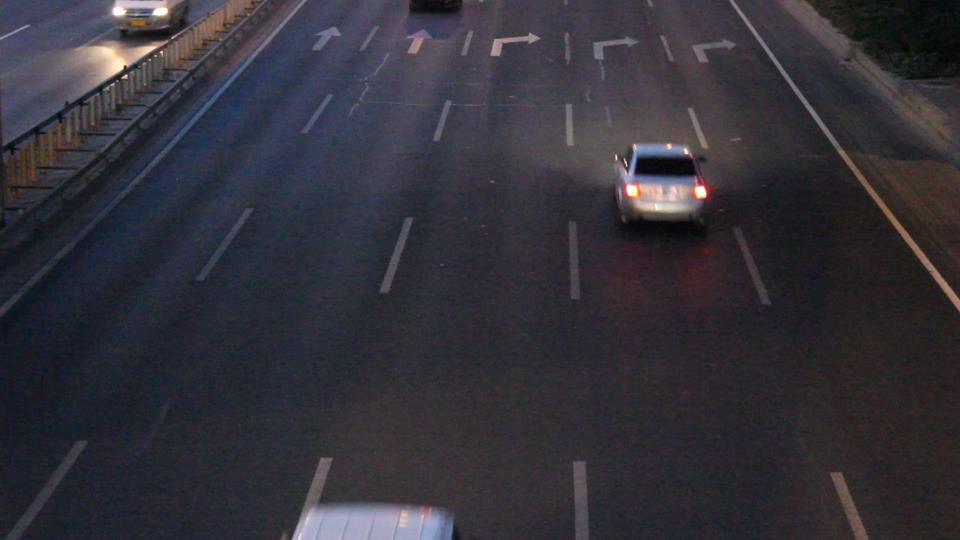Car: (612, 144, 704, 220), (408, 1, 460, 14)
